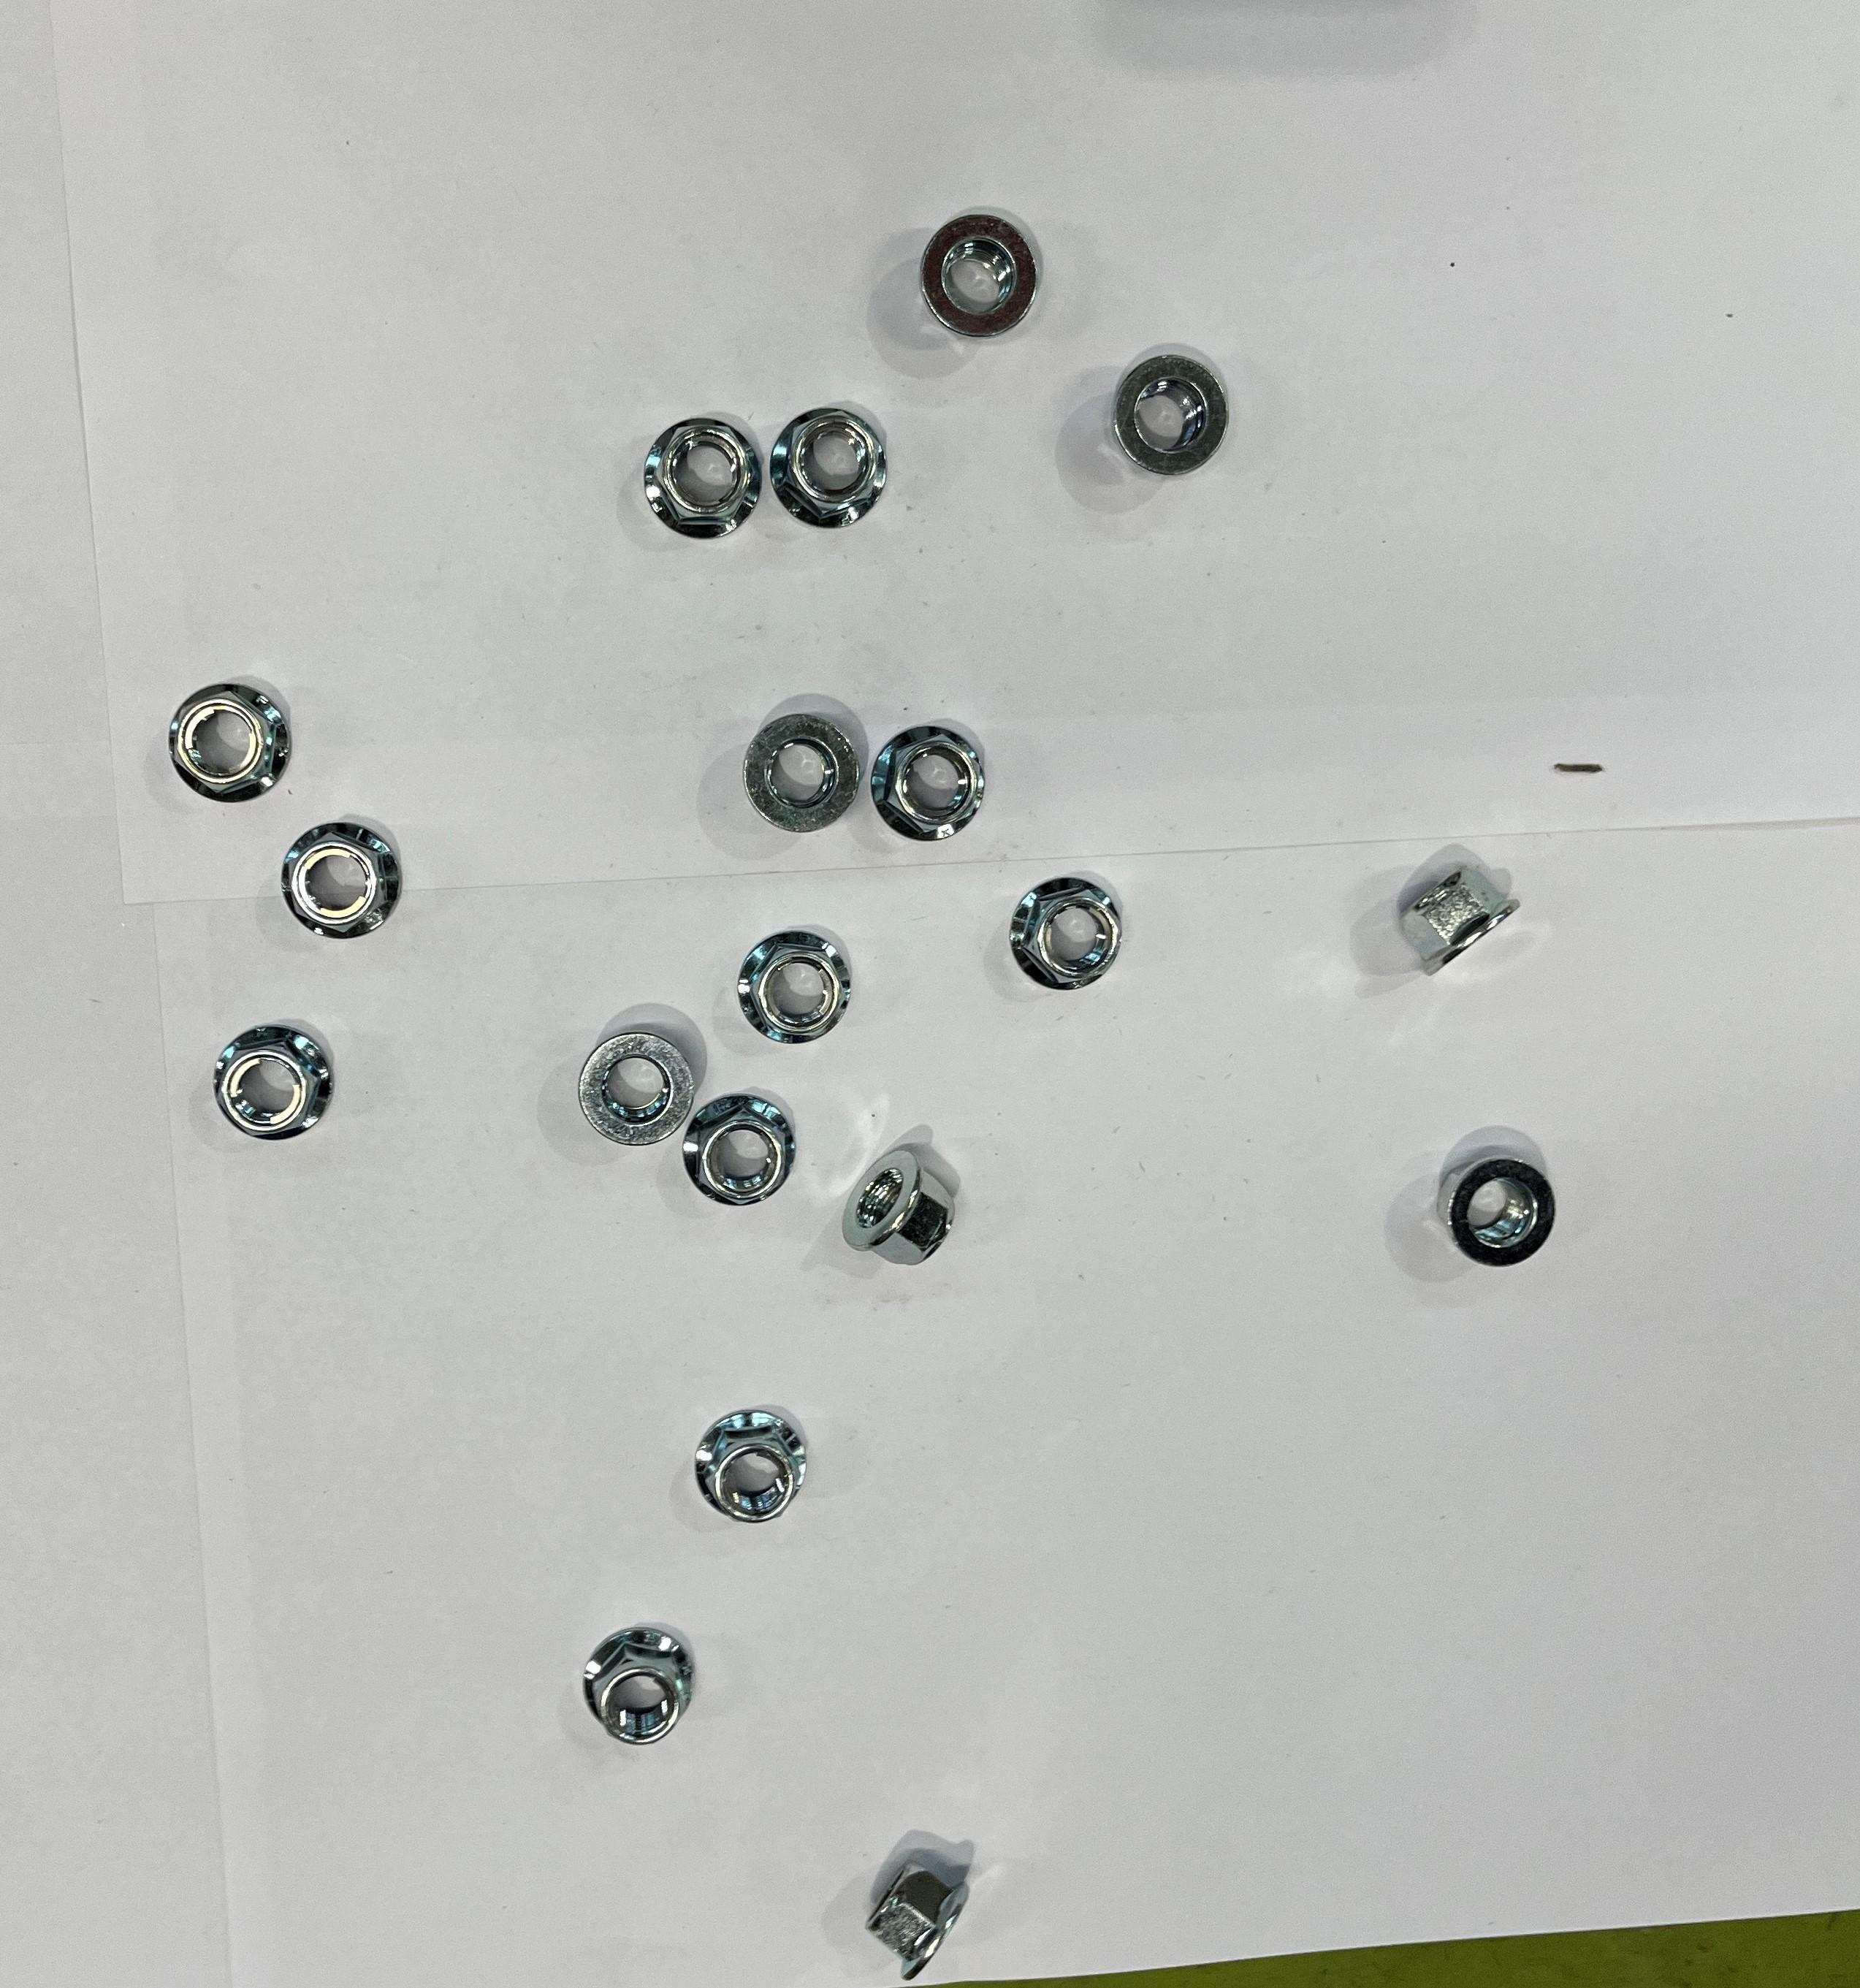Type B: (573, 1023, 699, 1152), (921, 206, 1047, 334), (164, 684, 292, 803), (281, 822, 406, 942), (741, 708, 858, 836), (1426, 1156, 1561, 1266), (766, 407, 886, 530), (582, 1628, 708, 1745), (208, 1019, 336, 1135), (1115, 346, 1229, 476), (732, 927, 855, 1046), (643, 418, 762, 535), (1390, 867, 1517, 976), (680, 1413, 806, 1521), (872, 727, 988, 843), (1012, 878, 1124, 997), (843, 1149, 954, 1268), (687, 1089, 794, 1210), (871, 1857, 968, 1985)
